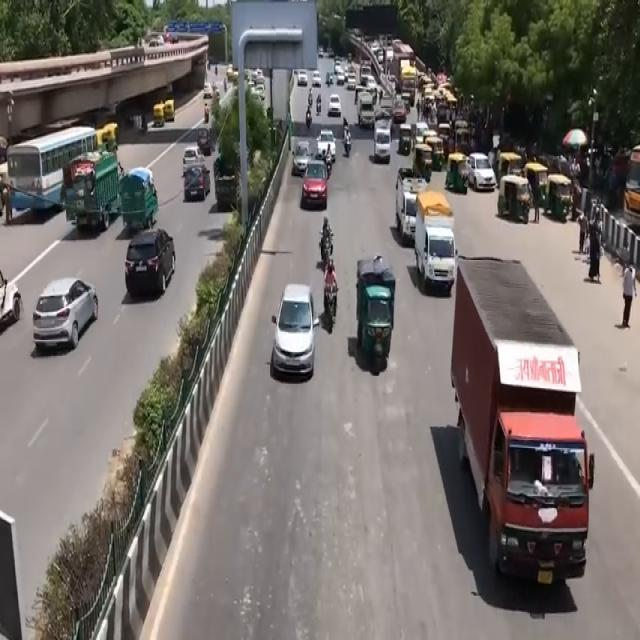BUS: (6, 121, 94, 226)
MOTORCYCLE: (324, 281, 337, 330), (320, 228, 330, 268)
TRUCK: (452, 263, 585, 595), (65, 160, 122, 228), (420, 192, 455, 298), (120, 172, 158, 230), (373, 119, 392, 165)
